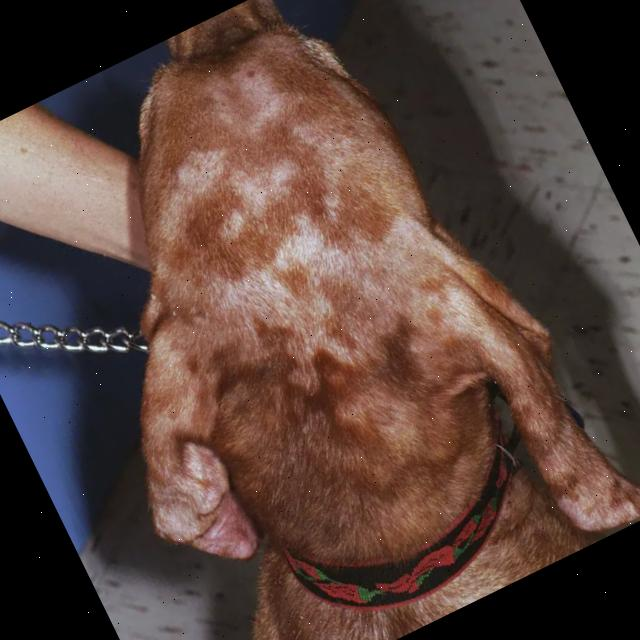cat-hairloss: (135, 53, 444, 420), (113, 356, 280, 564), (482, 314, 606, 521)
